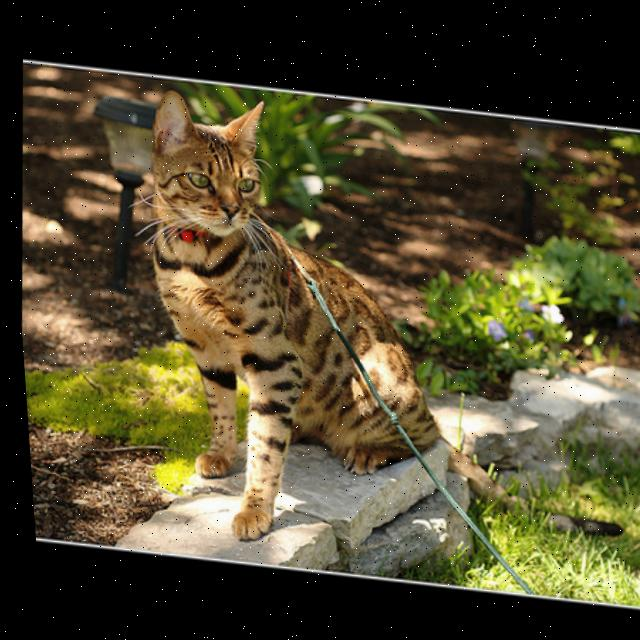Bengal: (103, 77, 640, 582)
